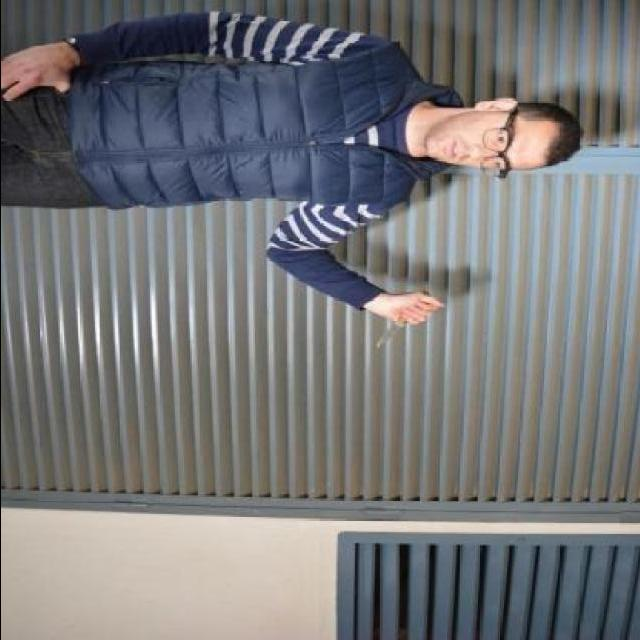Knife: (373, 292, 430, 348)
